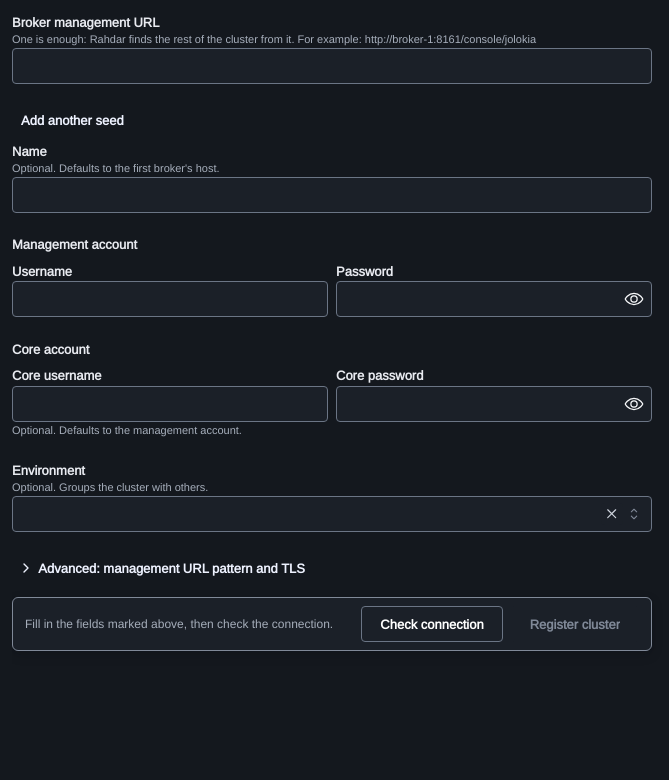
Test: RegisterClusterForm › warns before registering a broker newer than Rahdar has tested, and still lets it register
Type "broker-1" into the field labelled "Broker management URL".
click(332, 66); type("broker-1")  # box [12, 48, 652, 84]
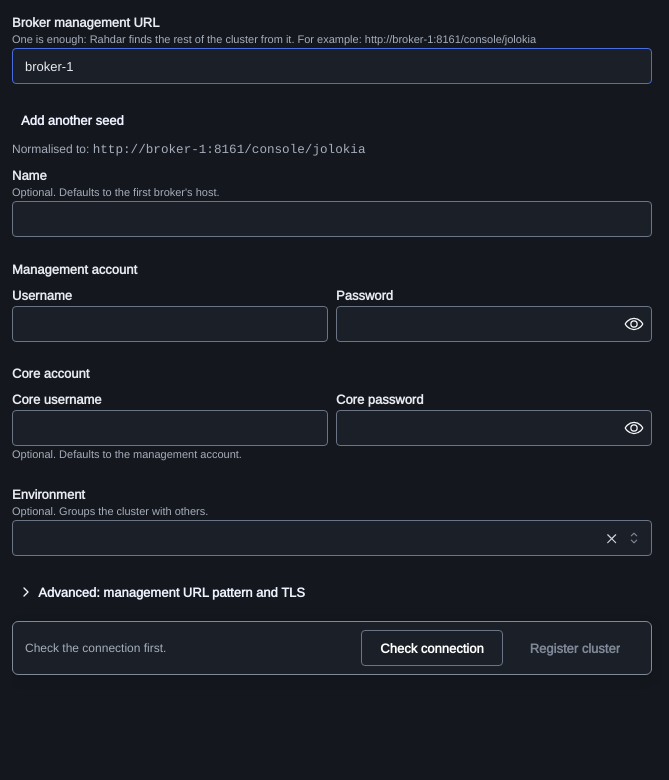
Click the button "Check connection".
click(432, 648)  # box [361, 630, 503, 666]
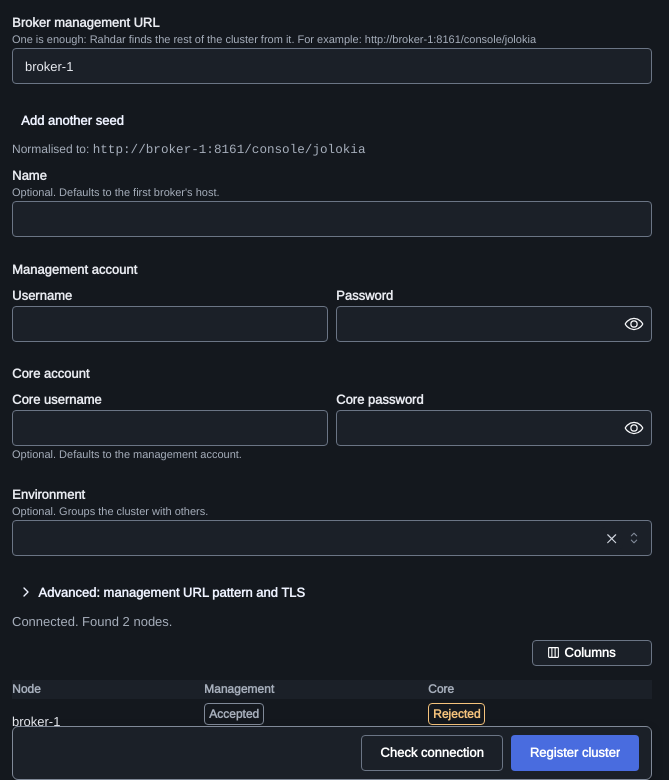
Expected: the button "Register cluster" is enabled, [511, 735, 639, 771]
